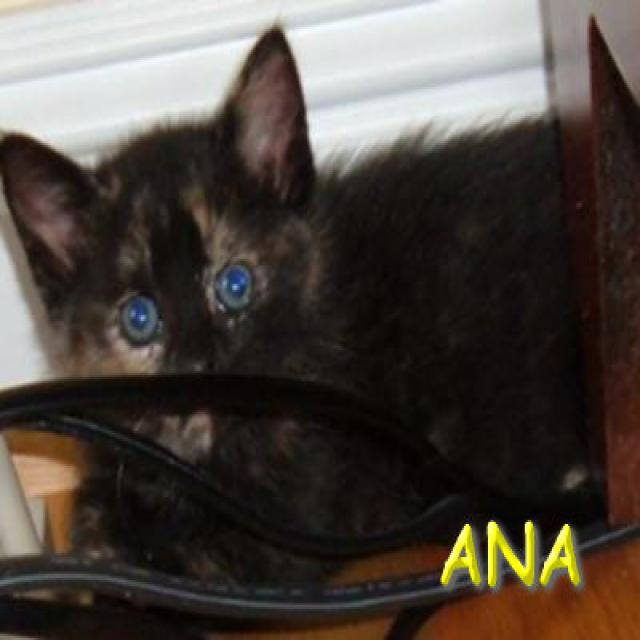Cats: (0, 21, 605, 588)
